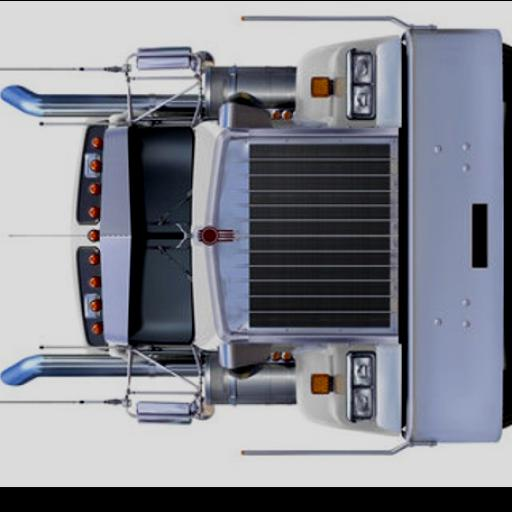truck: (0, 9, 512, 457)
